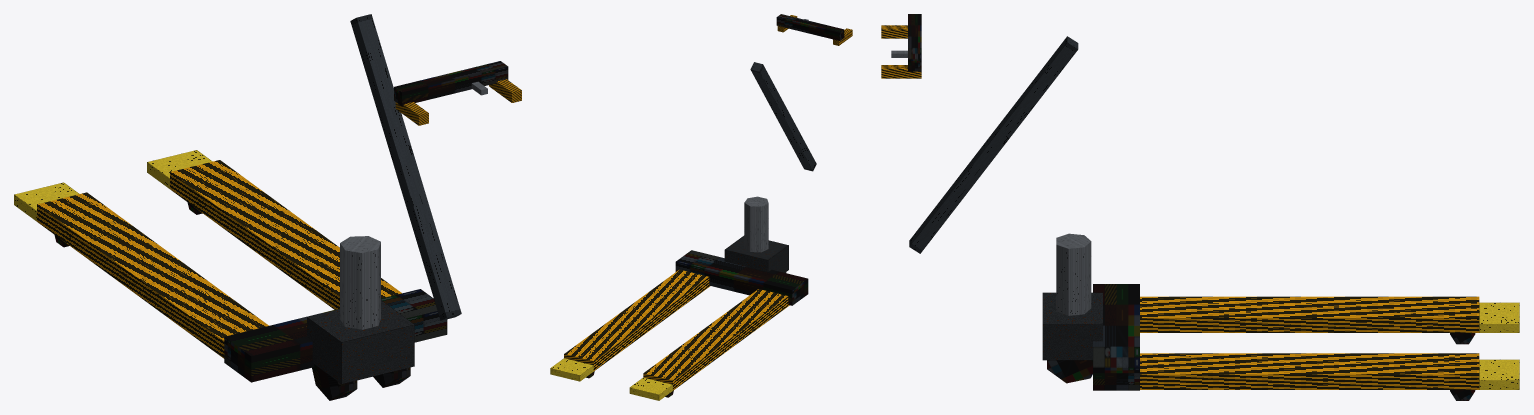
The model's file is forklift_cart.glb.
The picture shows the model from 3 angles, left to right: view 1: azimuth 30°, elevation 25°; view 2: azimuth 150°, elevation 25°; view 3: azimuth 270°, elevation 25°; orthographic projection. The views are drawn at different scales.
Parts seen in each view (by area): view 1: forklift_cart; view 2: forklift_cart; view 3: forklift_cart.
Boxes of the visible parts, x1=… form: forklift_cart: x1=14, y1=14, x2=521, y2=400; forklift_cart: x1=550, y1=14, x2=852, y2=400; forklift_cart: x1=881, y1=14, x2=1519, y2=400.
Size of the model in its own units: 0.59 by 1.09 by 1.9.
Materials: 1 (1 with a texture image).
